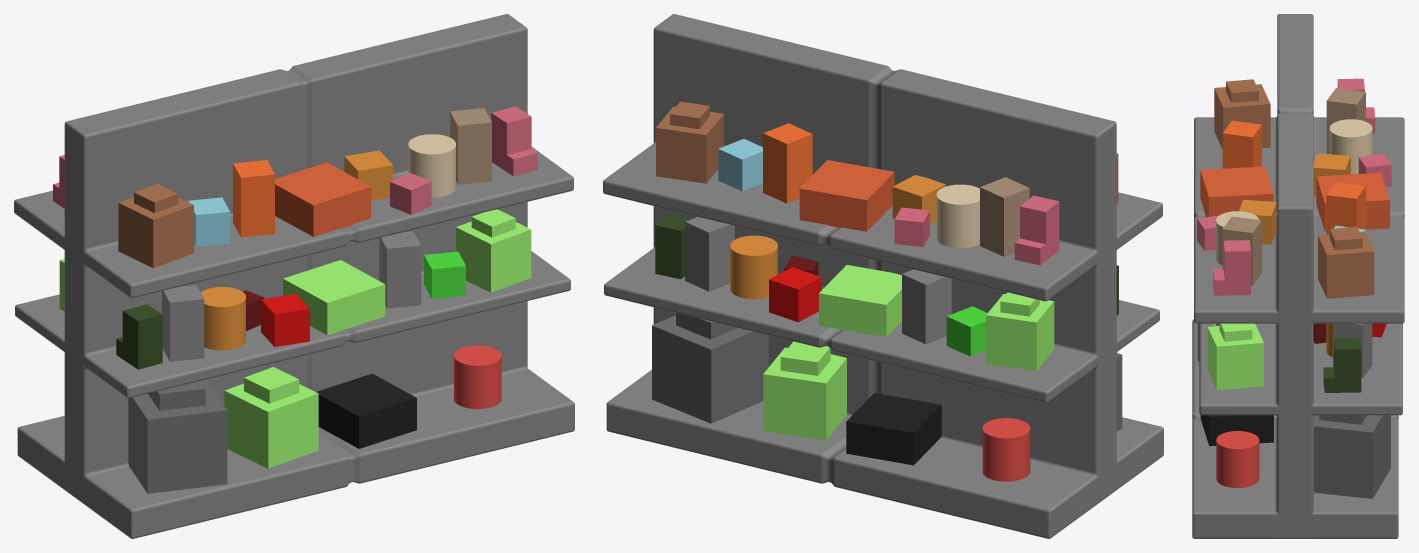
File: Shelf_Model.fbx
3 renders of one model, left to right at view 1: azimuth 30°, elevation 25°; view 2: azimuth 150°, elevation 25°; view 3: azimuth 270°, elevation 25°, orthographic. The views are drawn at different scales.
Parts seen in each view (by area): view 1: Cube.008, Cube.029, Cube.028, Cube.030, Cube.043, Cube.046, Cube.035, Cube.038, Cube.032, Cube.044, Cube.036, Cylinder.007 (+10 smaller); view 2: Cube.008, Cube.026, Cube.027, Cube.025, Cube.012, Cube.020, Cube.009, Cube.017, Cube.011, Cube.019, Cube.023, Cube.015 (+10 smaller); view 3: Cube.008, Cube.026, Cube.009, Cube.038, Cube.043, Cube.046, Cylinder.007, Cube.012, Cube.039, Cube.024, Cube.044, Cube.011 (+12 smaller).
Boxes of the visible parts, left/top/right/bottom form: Cube.008: left=14, top=14, right=574, bottom=538; Cube.029: left=128, top=379, right=227, bottom=493; Cube.028: left=224, top=367, right=318, bottom=468; Cube.030: left=316, top=373, right=416, bottom=448; Cube.043: left=275, top=162, right=371, bottom=236; Cube.046: left=118, top=183, right=193, bottom=268; Cube.035: left=283, top=260, right=385, bottom=335; Cube.038: left=456, top=209, right=531, bottom=292; Cube.032: left=162, top=285, right=204, bottom=361; Cube.044: left=233, top=160, right=274, bottom=237; Cube.036: left=379, top=231, right=421, bottom=308; Cylinder.007: left=454, top=345, right=501, bottom=408; Cube.008: left=603, top=14, right=1163, bottom=538; Cube.026: left=652, top=313, right=768, bottom=423; Cube.027: left=763, top=341, right=846, bottom=440; Cube.025: left=846, top=393, right=941, bottom=465; Cube.012: left=799, top=160, right=894, bottom=231; Cube.020: left=819, top=265, right=901, bottom=337; Cube.009: left=656, top=101, right=723, bottom=183; Cube.017: left=986, top=292, right=1054, bottom=370; Cube.011: left=763, top=123, right=812, bottom=203; Cube.019: left=902, top=269, right=951, bottom=344; Cube.023: left=685, top=217, right=734, bottom=291; Cube.015: left=980, top=177, right=1029, bottom=256; Cube.008: left=1192, top=14, right=1404, bottom=538; Cube.026: left=1313, top=415, right=1390, bottom=498; Cube.009: left=1318, top=226, right=1374, bottom=298; Cube.038: left=1207, top=323, right=1263, bottom=390; Cube.043: left=1200, top=166, right=1273, bottom=216; Cube.046: left=1214, top=79, right=1270, bottom=149; Cylinder.007: left=1216, top=431, right=1259, bottom=487; Cube.012: left=1316, top=172, right=1389, bottom=231; Cube.039: left=1213, top=240, right=1250, bottom=295; Cube.024: left=1323, top=338, right=1361, bottom=392; Cube.044: left=1222, top=120, right=1261, bottom=168; Cube.011: left=1326, top=182, right=1365, bottom=234.
Bounding box in the file's own units: 1012 × 805 × 467.
